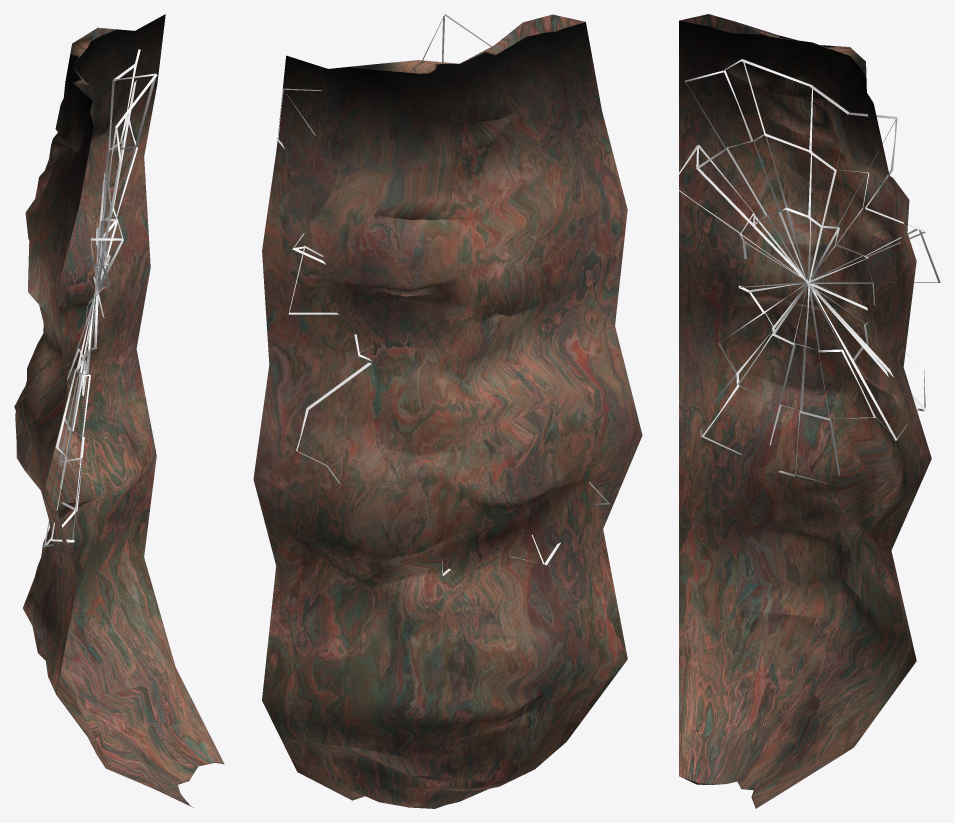
The model's file is cave_walls_concave_web.glb.
3 views of the same model, side by side, from view 1: azimuth 30°, elevation 25°; view 2: azimuth 150°, elevation 25°; view 3: azimuth 270°, elevation 25° (orthographic). The views are drawn at different scales.
Parts seen in each view (by area): view 1: cave_concave_web-col; view 2: cave_concave_web-col; view 3: cave_concave_web-col.
Boxes of the visible parts, <box> form: cave_concave_web-col: <box>14,14,224,808</box>; cave_concave_web-col: <box>253,14,642,808</box>; cave_concave_web-col: <box>671,14,940,808</box>.
Size of the model in its own units: 1.31 by 4.15 by 1.4.
2 materials, 1 textured.
